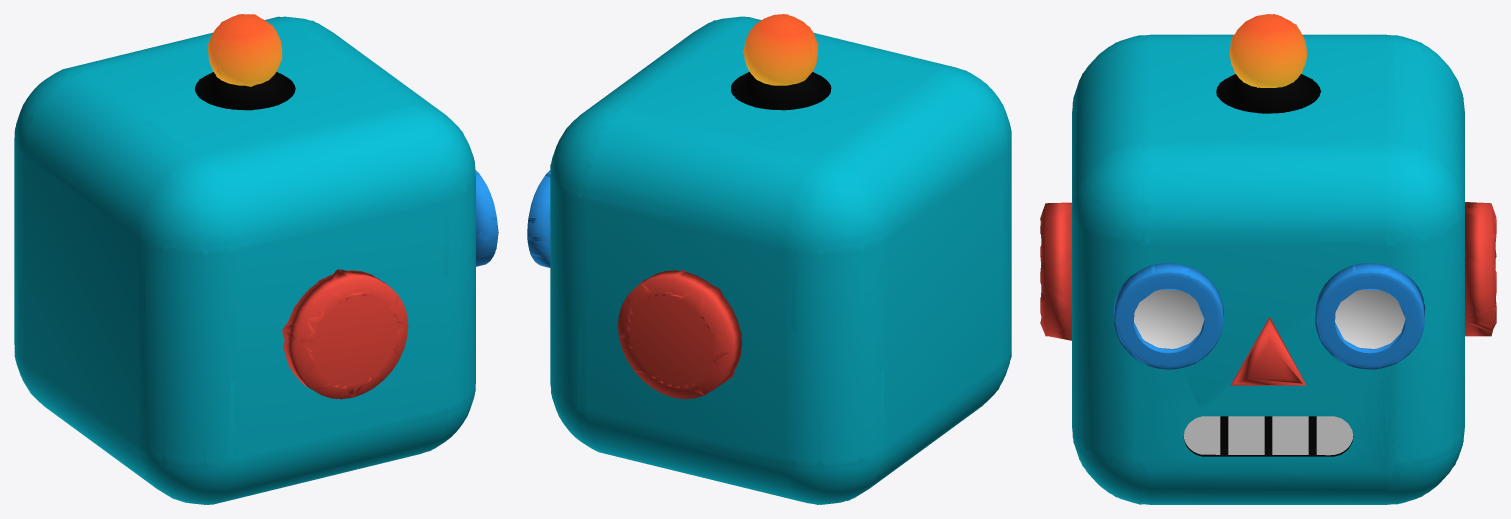
The model's file is robot.glb.
3 views of the same model, side by side, from view 1: azimuth 30°, elevation 25°; view 2: azimuth 150°, elevation 25°; view 3: azimuth 270°, elevation 25° (orthographic). The views are drawn at different scales.
Parts seen in each view (by area): view 1: Cube_4, Cube_4.001, Cylinder.001_11, Cylinder.001_11.001, Cube_4.002, Cylinder.001_11.002, Icosphere_12, Cone_3, Circle_1, Icosphere_12.002, Icosphere_12.001; view 2: Cube_4, Cylinder_10, Cube_4.001, Cylinder_10.001, Cube_4.002, Icosphere_12, Cone_3, Cylinder_10.002, Circle.001_2, Icosphere_12.001, Icosphere_12.002; view 3: Cube_4, Cube_4.001, Circle_1, Circle.001_2, Cube_4.002, Circle.001_2.001, Circle_1.001, Icosphere_12, Cone_3, Cylinder.001_11, Cylinder_10, Cylinder.001_11.001 (+14 smaller).
Part boxes in pixels (bbox=[...]): Cube_4: bbox=[14, 16, 475, 504]; Cube_4.001: bbox=[15, 16, 475, 504]; Cylinder.001_11: bbox=[284, 270, 408, 399]; Cylinder.001_11.001: bbox=[283, 269, 407, 398]; Cube_4.002: bbox=[14, 16, 475, 504]; Cylinder.001_11.002: bbox=[282, 269, 407, 397]; Icosphere_12: bbox=[208, 15, 282, 85]; Cone_3: bbox=[195, 72, 295, 109]; Circle_1: bbox=[475, 170, 497, 266]; Icosphere_12.002: bbox=[208, 14, 282, 86]; Icosphere_12.001: bbox=[208, 14, 280, 85]; Cube_4: bbox=[550, 16, 1011, 504]; Cylinder_10: bbox=[618, 270, 741, 399]; Cube_4.001: bbox=[551, 16, 1011, 504]; Cylinder_10.001: bbox=[618, 270, 741, 398]; Cube_4.002: bbox=[550, 17, 1011, 504]; Icosphere_12: bbox=[744, 15, 818, 85]; Cone_3: bbox=[731, 72, 831, 109]; Cylinder_10.002: bbox=[619, 271, 728, 394]; Circle.001_2: bbox=[527, 170, 550, 267]; Icosphere_12.001: bbox=[745, 14, 813, 85]; Icosphere_12.002: bbox=[743, 14, 818, 85]; Cube_4: bbox=[1072, 34, 1464, 504]; Cube_4.001: bbox=[1072, 34, 1464, 504]; Circle_1: bbox=[1114, 263, 1223, 369]; Circle.001_2: bbox=[1315, 263, 1424, 369]; Cube_4.002: bbox=[1073, 35, 1463, 504]; Circle.001_2.001: bbox=[1319, 270, 1420, 369]; Circle_1.001: bbox=[1118, 270, 1219, 369]; Icosphere_12: bbox=[1229, 14, 1307, 87]; Cone_3: bbox=[1216, 74, 1320, 113]; Cylinder.001_11: bbox=[1041, 204, 1071, 334]; Cylinder_10: bbox=[1465, 203, 1495, 336]; Cylinder.001_11.001: bbox=[1041, 202, 1071, 336].
Size of the model in its own units: 4.3 by 4.96 by 4.77.
Materials: 2 (2 with a texture image).
